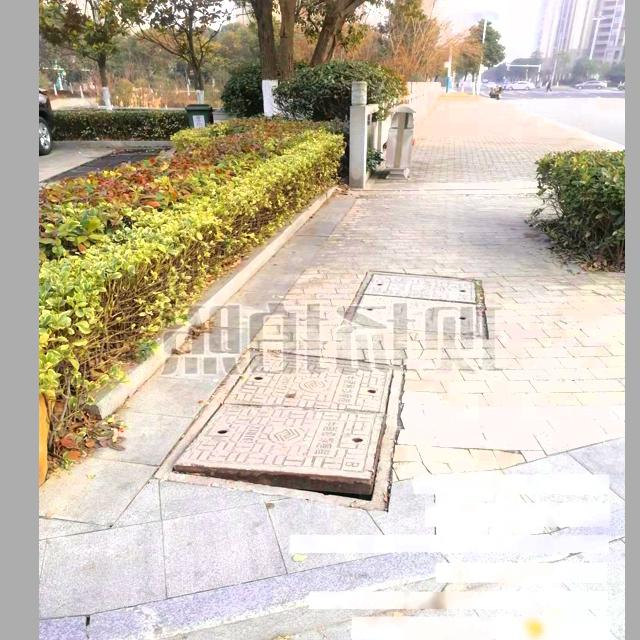good: (341, 270, 489, 341)
uncovered: (152, 350, 407, 511)
